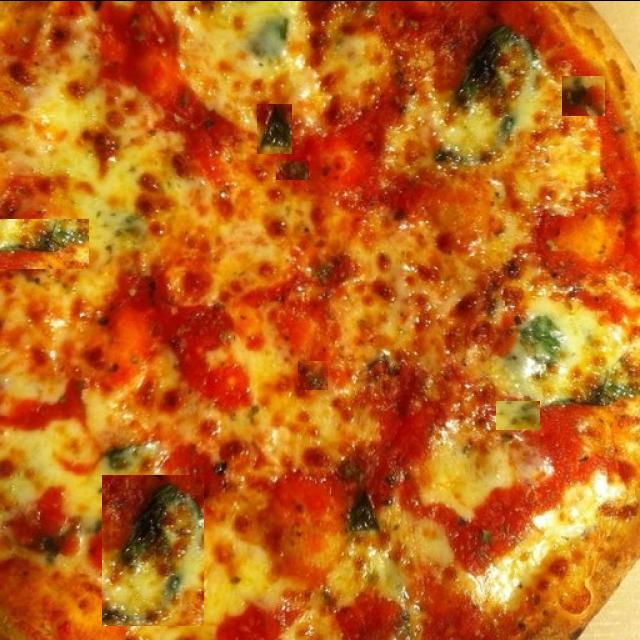basil: (102, 474, 204, 625), (0, 218, 89, 268), (76, 265, 133, 322), (346, 578, 390, 635), (344, 582, 390, 626), (484, 167, 536, 204), (257, 103, 292, 153), (562, 75, 605, 115), (490, 166, 533, 205), (496, 398, 540, 428), (484, 104, 518, 130), (298, 360, 328, 389), (276, 160, 309, 179), (531, 108, 560, 125)
pizza: (0, 0, 640, 640)
